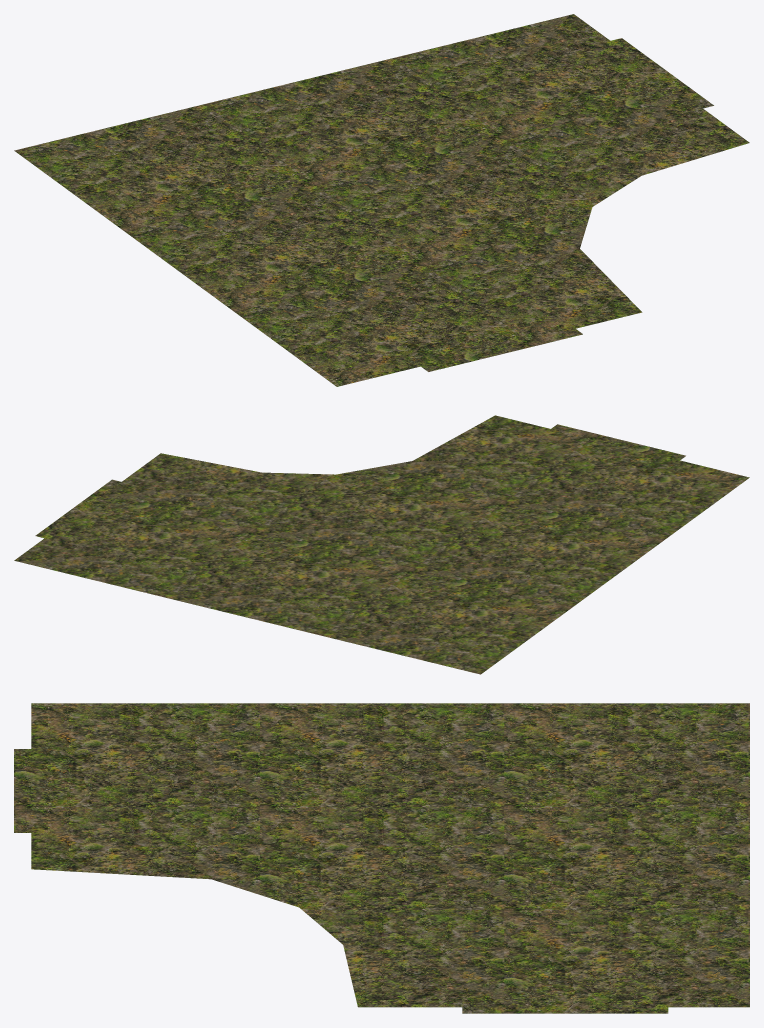
The model's file is Planter_DirtPlane_Unique09.FBX.
3 renders of one model, top to bottom at view 1: azimuth 30°, elevation 25°; view 2: azimuth 150°, elevation 25°; view 3: azimuth 270°, elevation 25°, orthographic. The views are drawn at different scales.
Parts seen in each view (by area): view 1: Planter_DirtPlane_Unique09; view 2: Planter_DirtPlane_Unique09; view 3: Planter_DirtPlane_Unique09.
Boxes of the visible parts, x1=… form: Planter_DirtPlane_Unique09: x1=14, y1=14, x2=749, y2=386; Planter_DirtPlane_Unique09: x1=14, y1=415, x2=749, y2=674; Planter_DirtPlane_Unique09: x1=14, y1=703, x2=749, y2=1013.
Size of the model in its own units: 12.02 by 3.41e-15 by 12.05.
